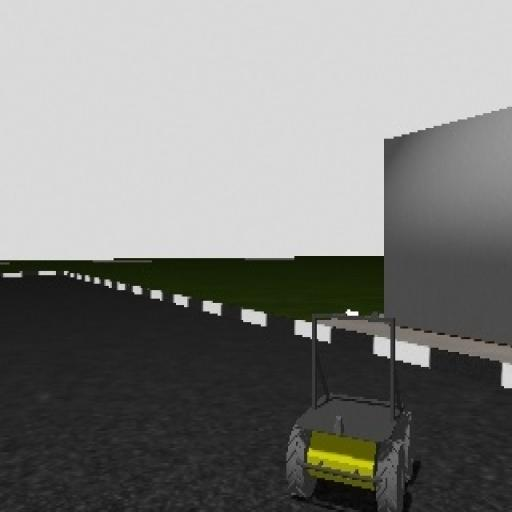huskya200: (285, 310, 412, 512)
